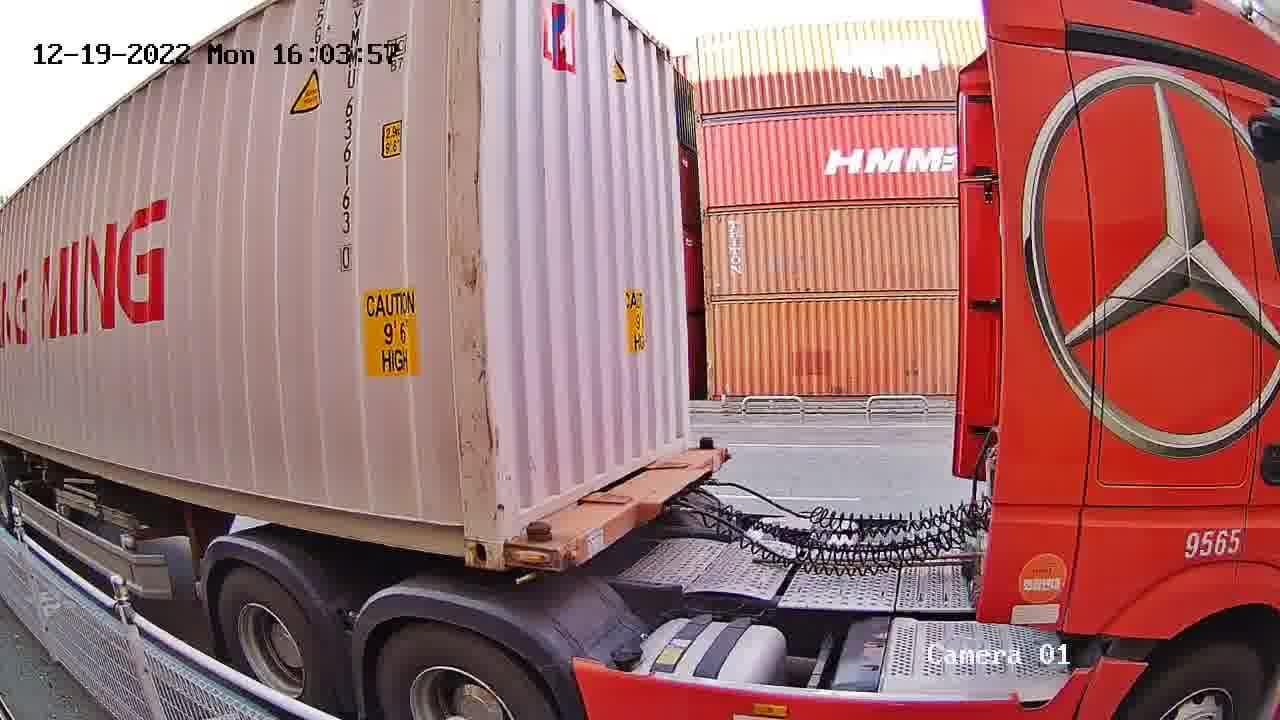Chassis: (504, 445, 726, 571)
Cone: (523, 519, 553, 567), (696, 432, 717, 453)
Hole_R: (423, 485, 503, 568)
Tire: (376, 626, 552, 715), (219, 571, 324, 708)
